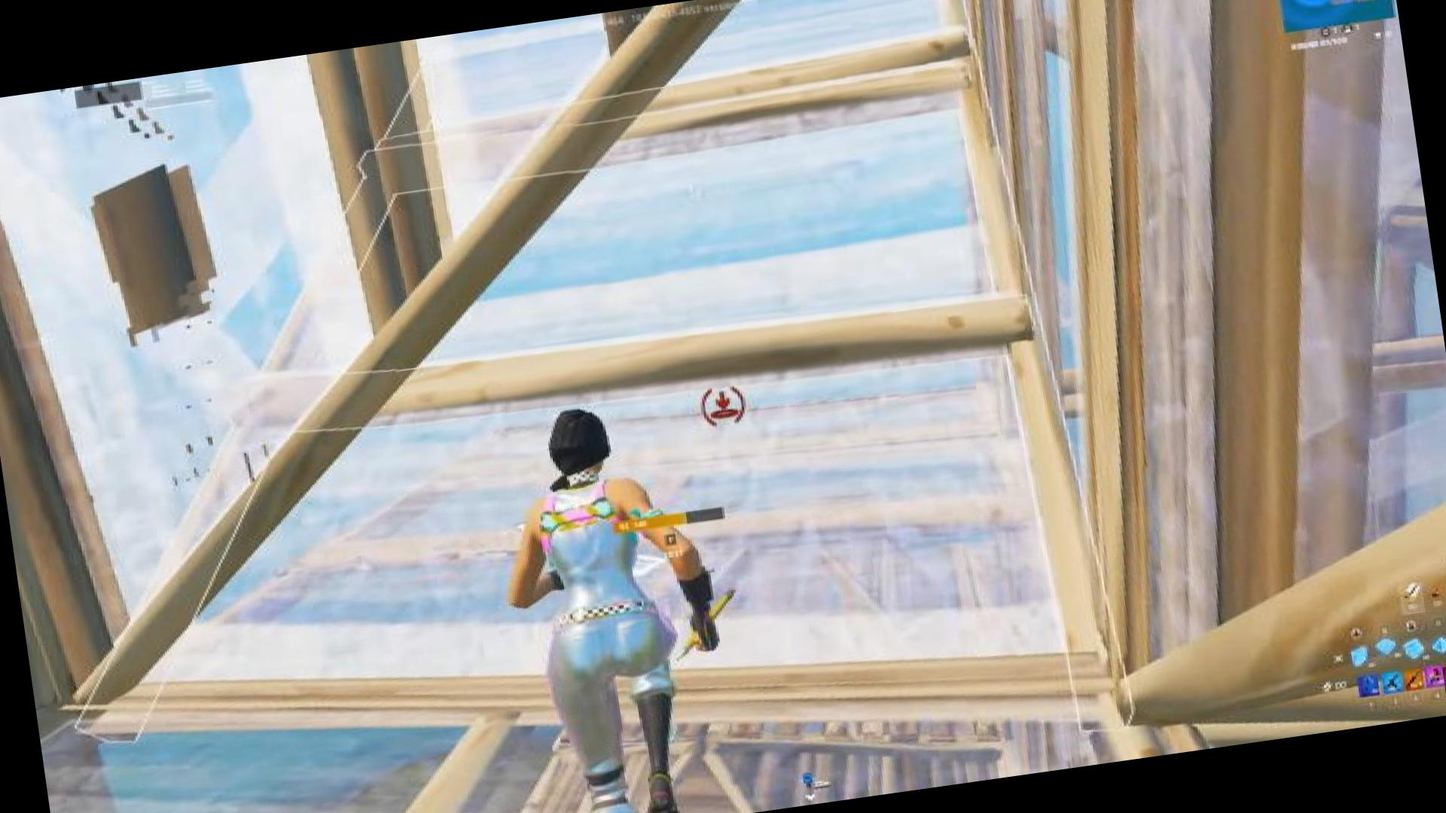player: (499, 392, 747, 813)
